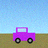vehicle: (13, 27, 35, 43)
